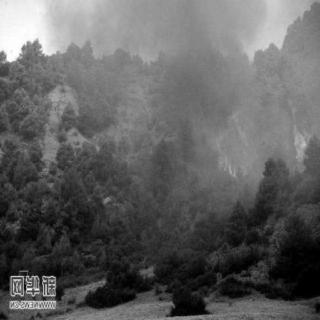Fire: (213, 100, 256, 184), (284, 96, 308, 164)
